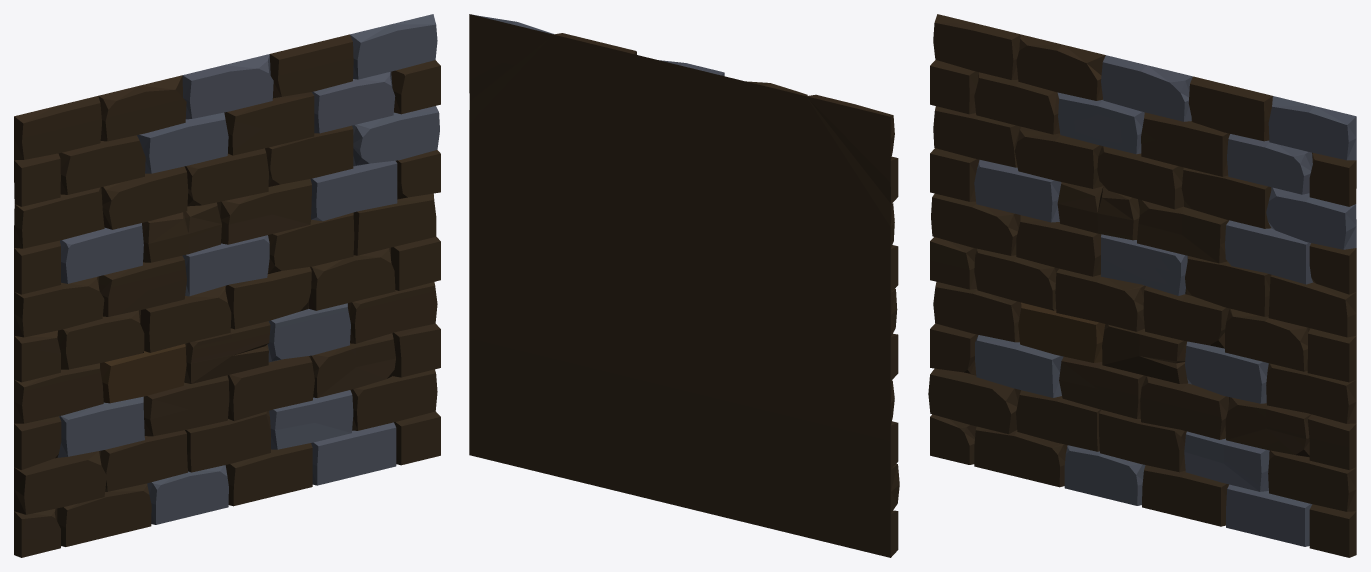
File: Wall_25.fbx
The picture shows the model from 3 angles, left to right: view 1: azimuth 30°, elevation 25°; view 2: azimuth 150°, elevation 25°; view 3: azimuth 330°, elevation 25°; orthographic projection.
Parts seen in each view (by area): view 1: Wall_25; view 2: Wall_25; view 3: Wall_25.
Boxes of the visible parts, x1=… form: Wall_25: x1=14, y1=14, x2=440, y2=557; Wall_25: x1=469, y1=14, x2=899, y2=557; Wall_25: x1=928, y1=14, x2=1356, y2=557.
Bounding box in the file's own units: 4 × 4 × 0.157.
